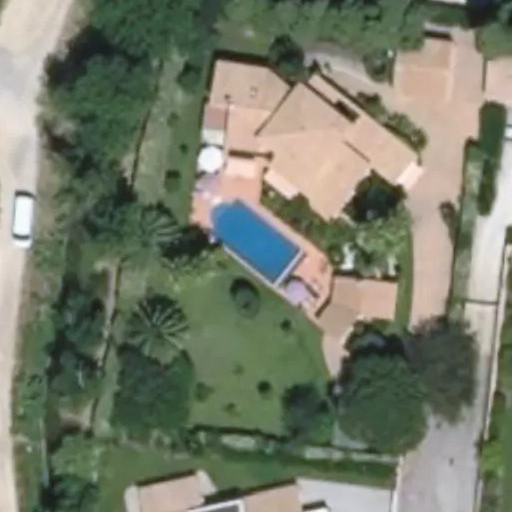pool: (197, 223, 306, 252)
